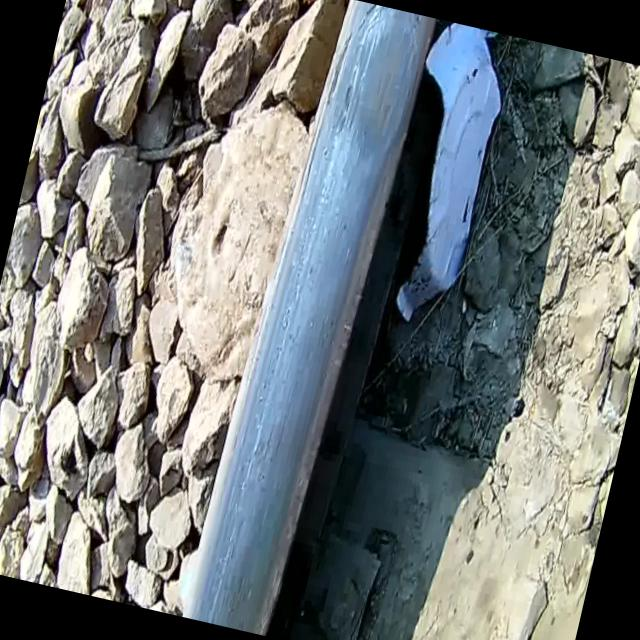Squats: (166, 0, 453, 640)
